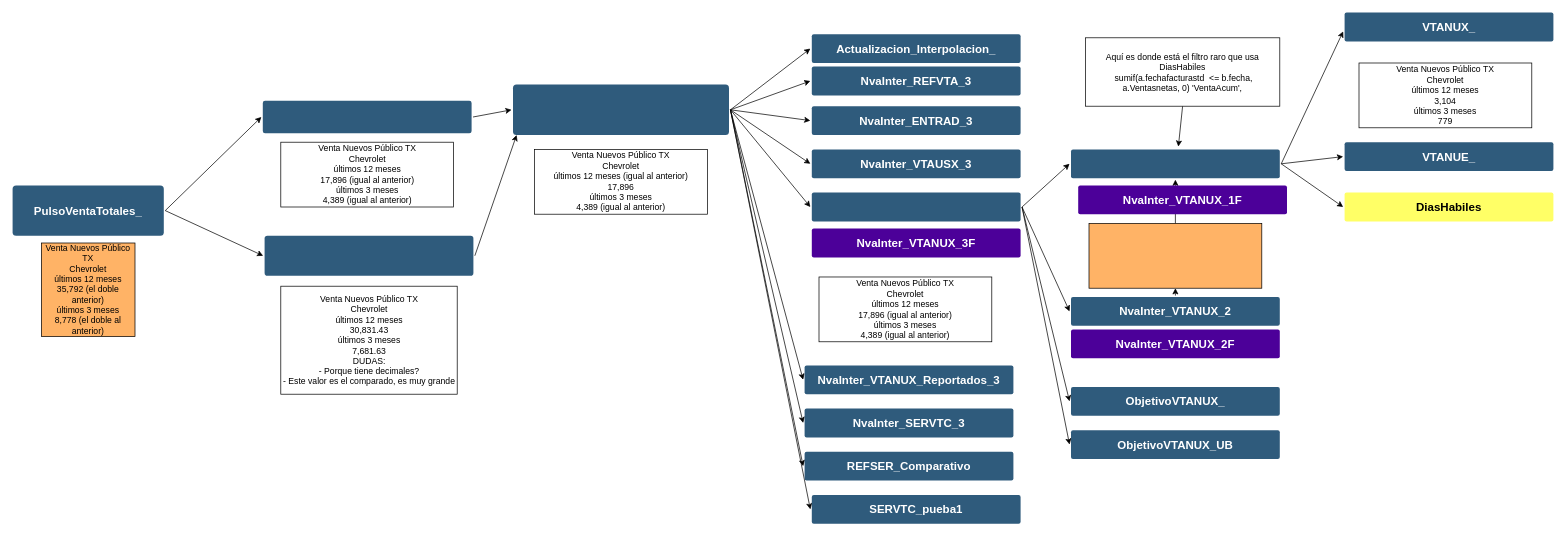
Image size: 1565x536. Some labels were removed from this diagram. Here are the shapes that lost their labels. From the top down, the centre of each, then its label:
At point (366, 116): "PulsoVentaTotalespaso_".
At point (621, 109): "InterpoladoConsolidadoPaso_prueba".
At point (1175, 163): "NvaInter_VTANUX_1".
At point (915, 206): "NvaInter_VTANUX_3".
At point (368, 255): "PulsoVentaTotalescomparaciones_".
At point (1175, 255): "Venta Nuevos Público TX Chevrolet últimos 12 meses 17,896 últimos 3 meses 4,389".
